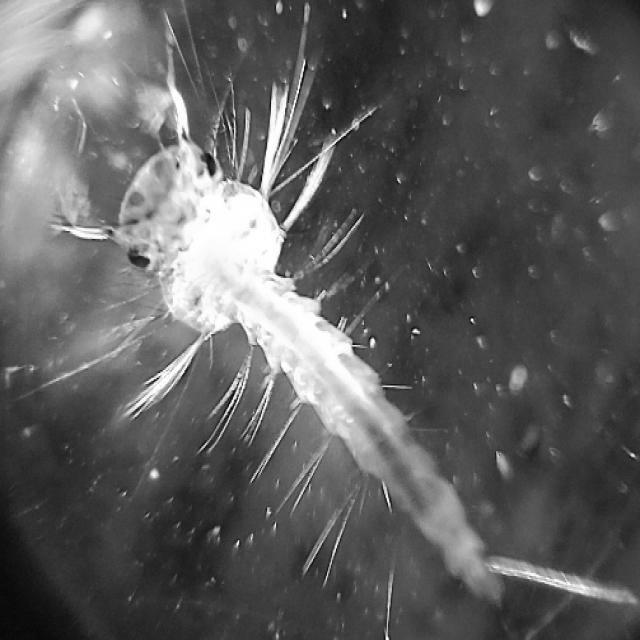larvas: (115, 138, 638, 612)
